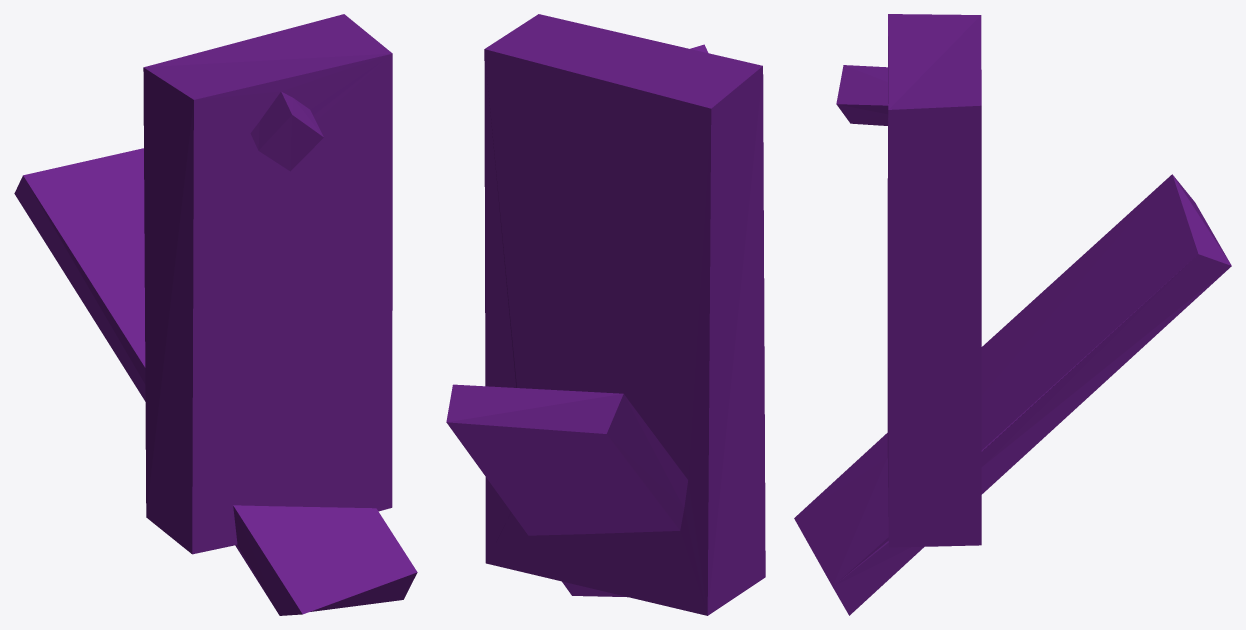
3 renders of one model, left to right at view 1: azimuth 30°, elevation 25°; view 2: azimuth 150°, elevation 25°; view 3: azimuth 270°, elevation 25°, orthographic. The views are drawn at different scales.
Parts seen in each view (by area): view 1: 490_Cube.1988; view 2: 490_Cube.1988; view 3: 490_Cube.1988.
Boxes of the visible parts, x1=… form: 490_Cube.1988: x1=14, y1=14, x2=417, y2=615; 490_Cube.1988: x1=446, y1=14, x2=765, y2=615; 490_Cube.1988: x1=794, y1=14, x2=1231, y2=615.
Size of the model in its own units: 6.14 by 14.07 by 10.85.
